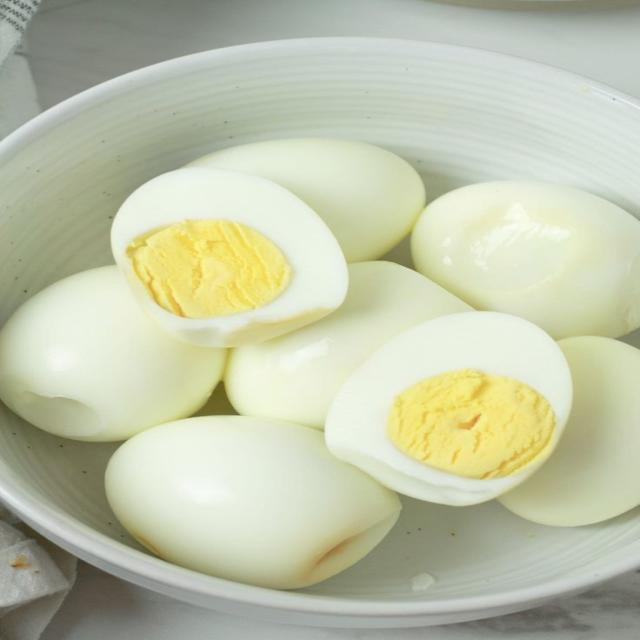eggs: (0, 143, 640, 586)
